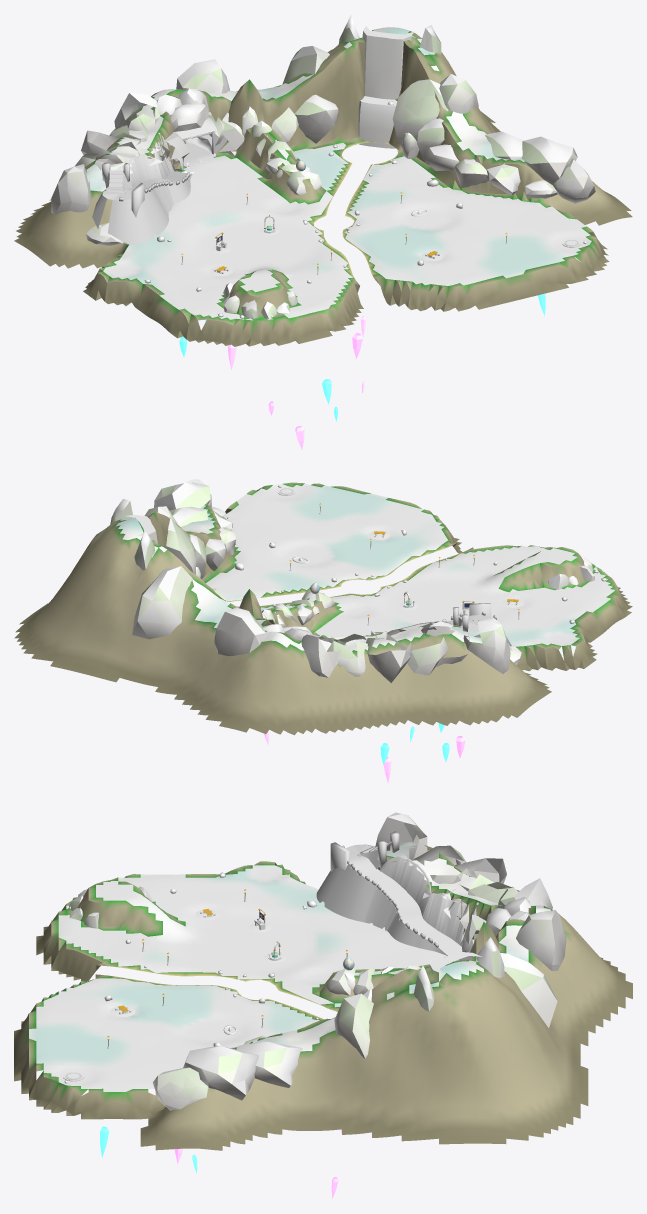
File: world-v7-beta.fbx
3 views of the same model, one above another, from view 1: azimuth 30°, elevation 25°; view 2: azimuth 150°, elevation 25°; view 3: azimuth 270°, elevation 25° (orthographic). The views are drawn at different scales.
Visible parts, largest first — view 1: W7_CD_Ground__grass, W7_CD_Ground__ground, W7_CD_CliffPath__cliff_rock, W7_CD_Landmarks__cliff_rock_2217, W7_CD_Rocks__cliff_rock_2218, W7_CD_Rocks__grass, W7_CD_Rocks__cliff_rock_2320, W7_CD_Rocks__cliff_rock_2117, W7_CD_Rocks__cliff_rock_1718, W7_CD_Rocks__cliff_rock_2017, W7_CD_Landmarks__cliff_rock_1916, W7_CD_Rocks__cliff_rock_2219 (+10 smaller); view 2: W7_CD_Ground__ground, W7_CD_Ground__grass, W7_CD_Rocks__cliff_rock_1816, W7_CD_Rocks__cliff_rock_2116, W7_CD_Rocks__cliff_rock_1717, W7_CD_Rocks__grass, W7_CD_Rocks__cliff_rock_2218, W7_CD_Rocks__cliff_rock_2015, W7_CD_CliffPath__cliff_rock, W7_CD_Rocks__cliff_rock_1916, W7_CD_Rocks__cliff_rock_1617, W7_CD_Rocks__grass_2116 (+6 smaller); view 3: W7_CD_Ground__ground, W7_CD_Ground__grass, W7_CD_CliffPath__cliff_rock, W7_CD_CliffPath__dirt_path, W7_CD_Rocks__cliff_rock_2319, W7_CD_Rocks__grass, W7_CD_Rocks__cliff_rock_2420, W7_CD_Rocks__cliff_rock_2318, W7_CD_Rocks__cliff_rock_2016, W7_CD_Rocks__cliff_rock_2216, W7_CD_Rocks__cliff_rock_2320, W7_CD_Rocks__cliff_rock_1717 (+6 smaller).
Boxes of the visible parts, left/top/right/bottom form: W7_CD_Ground__grass: left=86, top=27, right=591, bottom=320; W7_CD_Ground__ground: left=14, top=30, right=632, bottom=346; W7_CD_CliffPath__cliff_rock: left=92, top=132, right=192, bottom=245; W7_CD_Landmarks__cliff_rock_2217: left=358, top=26, right=414, bottom=148; W7_CD_Rocks__cliff_rock_2218: left=392, top=79, right=457, bottom=163; W7_CD_Rocks__grass: left=224, top=74, right=587, bottom=314; W7_CD_Rocks__cliff_rock_2320: left=501, top=144, right=595, bottom=203; W7_CD_Rocks__cliff_rock_2117: left=275, top=101, right=338, bottom=143; W7_CD_Rocks__cliff_rock_1718: left=67, top=164, right=123, bottom=245; W7_CD_Rocks__cliff_rock_2017: left=219, top=110, right=297, bottom=170; W7_CD_Landmarks__cliff_rock_1916: left=153, top=89, right=201, bottom=157; W7_CD_Rocks__cliff_rock_2219: left=426, top=140, right=489, bottom=187; W7_CD_Ground__ground: left=14, top=482, right=632, bottom=735; W7_CD_Ground__grass: left=115, top=483, right=614, bottom=651; W7_CD_Rocks__cliff_rock_1816: left=319, top=634, right=410, bottom=682; W7_CD_Rocks__cliff_rock_2116: left=137, top=566, right=192, bottom=639; W7_CD_Rocks__cliff_rock_1717: left=411, top=625, right=495, bottom=675; W7_CD_Rocks__grass: left=157, top=479, right=594, bottom=576; W7_CD_Rocks__cliff_rock_2218: left=166, top=507, right=217, bottom=578; W7_CD_Rocks__cliff_rock_2015: left=214, top=618, right=259, bottom=655; W7_CD_CliffPath__cliff_rock: left=370, top=603, right=512, bottom=650; W7_CD_Rocks__cliff_rock_1916: left=255, top=633, right=350, bottom=675; W7_CD_Rocks__cliff_rock_1617: left=491, top=625, right=510, bottom=673; W7_CD_Rocks__grass_2116: left=142, top=566, right=180, bottom=600; W7_CD_Ground__ground: left=14, top=845, right=632, bottom=1150; W7_CD_Ground__grass: left=29, top=842, right=550, bottom=1091; W7_CD_CliffPath__cliff_rock: left=316, top=831, right=478, bottom=955; W7_CD_CliffPath__dirt_path: left=346, top=841, right=462, bottom=955; W7_CD_Rocks__cliff_rock_2319: left=232, top=1047, right=302, bottom=1094; W7_CD_Rocks__grass: left=69, top=895, right=371, bottom=1075; W7_CD_Rocks__cliff_rock_2420: left=157, top=1069, right=245, bottom=1110; W7_CD_Rocks__cliff_rock_2318: left=334, top=993, right=373, bottom=1058; W7_CD_Rocks__cliff_rock_2016: left=516, top=911, right=560, bottom=971; W7_CD_Rocks__cliff_rock_2216: left=504, top=966, right=557, bottom=1027; W7_CD_Rocks__cliff_rock_2320: left=157, top=1053, right=245, bottom=1109; W7_CD_Rocks__cliff_rock_1717: left=399, top=817, right=466, bottom=865.
Size of the model in its own units: 26100 by 14671 by 24900.
